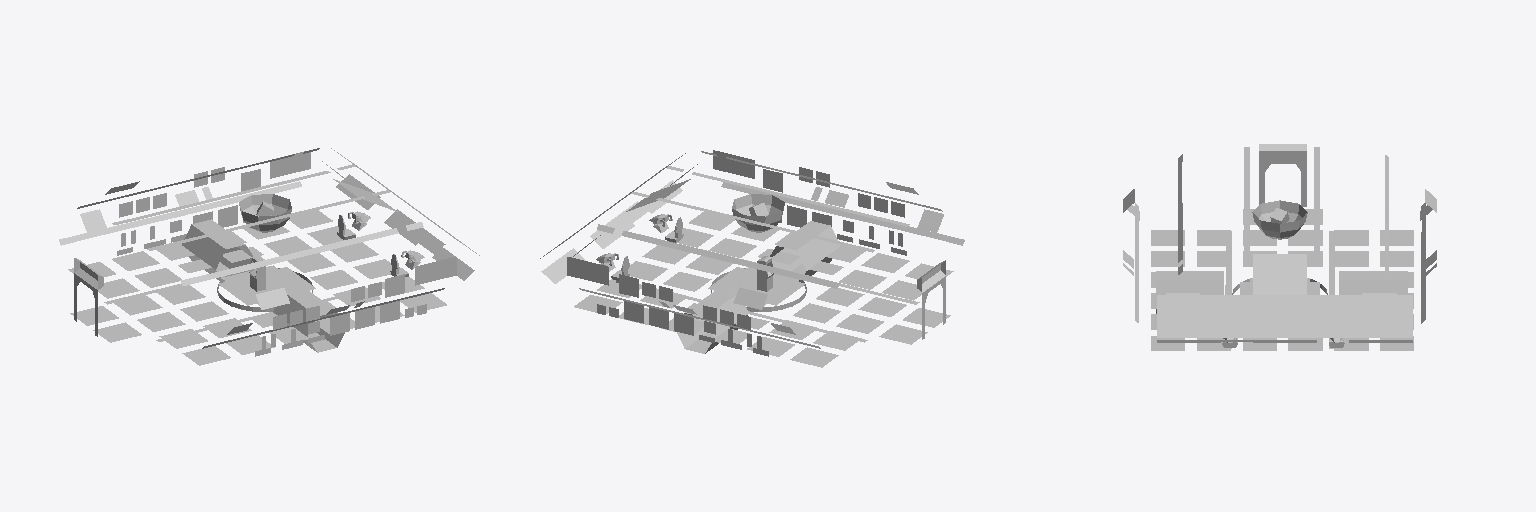
File: GAL.obj
3 views of the same model, side by side, from view 1: azimuth 30°, elevation 25°; view 2: azimuth 150°, elevation 25°; view 3: azimuth 270°, elevation 25° (orthographic).
Parts seen in each view (by area): view 1: TMD object #4, VRAM page #7, TMD object #3, VRAM page #7, TMD object #6, VRAM page #7, TMD object #2, untextured, TMD object #0, VRAM page #9, TMD object #0, untextured, TMD object #6, VRAM page #5, TMD object #1, untextured, TMD object #3, VRAM page #9, TMD object #4, VRAM page #6, TMD object #3, untextured, TMD object #5, untextured; view 2: TMD object #4, VRAM page #7, TMD object #3, VRAM page #7, TMD object #6, VRAM page #7, TMD object #0, VRAM page #9, TMD object #2, untextured, TMD object #0, untextured, TMD object #6, VRAM page #5, TMD object #1, untextured, TMD object #3, VRAM page #9, TMD object #4, VRAM page #6, TMD object #3, untextured, TMD object #5, untextured; view 3: TMD object #4, VRAM page #6, TMD object #4, VRAM page #7, TMD object #6, VRAM page #7, TMD object #3, VRAM page #7, TMD object #0, untextured, TMD object #2, untextured, TMD object #3, untextured, TMD object #0, VRAM page #9.
Part boxes in pixels (left/top/right/bottom): TMD object #4, VRAM page #7: left=68, top=174, right=474, bottom=365; TMD object #3, VRAM page #7: left=86, top=151, right=456, bottom=356; TMD object #6, VRAM page #7: left=59, top=154, right=427, bottom=348; TMD object #2, untextured: left=217, top=194, right=312, bottom=311; TMD object #0, VRAM page #9: left=189, top=219, right=344, bottom=351; TMD object #0, untextured: left=182, top=224, right=338, bottom=352; TMD object #6, VRAM page #5: left=219, top=265, right=315, bottom=305; TMD object #1, untextured: left=249, top=211, right=424, bottom=291; TMD object #3, VRAM page #9: left=80, top=209, right=349, bottom=335; TMD object #4, VRAM page #6: left=331, top=148, right=479, bottom=255; TMD object #3, untextured: left=74, top=238, right=341, bottom=336; TMD object #5, untextured: left=59, top=148, right=444, bottom=348; TMD object #4, VRAM page #7: left=541, top=180, right=953, bottom=367; TMD object #3, VRAM page #7: left=567, top=150, right=934, bottom=356; TMD object #6, VRAM page #7: left=595, top=157, right=964, bottom=348; TMD object #0, VRAM page #9: left=677, top=221, right=831, bottom=353; TMD object #2, untextured: left=711, top=194, right=806, bottom=311; TMD object #0, untextured: left=684, top=226, right=840, bottom=353; TMD object #6, VRAM page #5: left=708, top=267, right=804, bottom=305; TMD object #1, untextured: left=596, top=214, right=773, bottom=291; TMD object #3, VRAM page #9: left=674, top=209, right=943, bottom=335; TMD object #4, VRAM page #6: left=540, top=153, right=685, bottom=258; TMD object #3, untextured: left=616, top=241, right=945, bottom=339; TMD object #5, untextured: left=579, top=151, right=964, bottom=348; TMD object #4, VRAM page #6: left=1157, top=295, right=1412, bottom=342; TMD object #4, VRAM page #7: left=1151, top=209, right=1413, bottom=350; TMD object #6, VRAM page #7: left=1135, top=147, right=1425, bottom=315; TMD object #3, VRAM page #7: left=1123, top=151, right=1436, bottom=294; TMD object #0, untextured: left=1156, top=280, right=1407, bottom=302; TMD object #2, untextured: left=1232, top=200, right=1327, bottom=294; TMD object #3, untextured: left=1224, top=144, right=1342, bottom=347; TMD object #0, VRAM page #9: left=1156, top=271, right=1407, bottom=313.
Bounding box in the file's own units: 233 × 67.84 × 189.